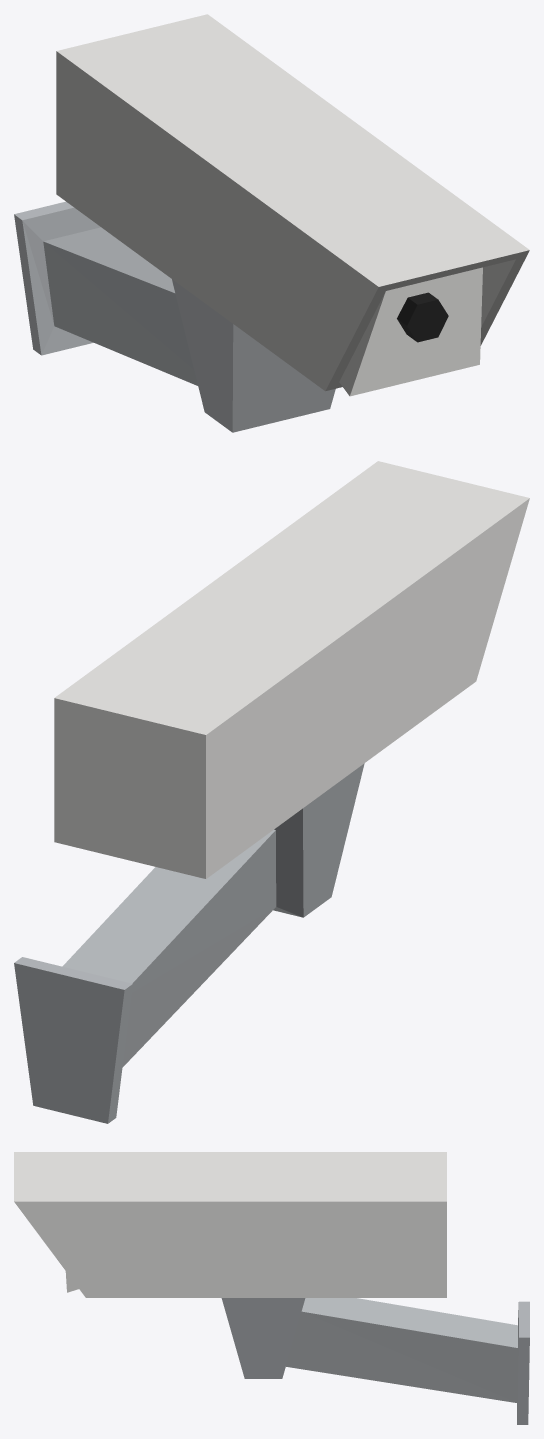
Rendered from SM_security_camera.fbx.
The picture shows the model from 3 angles, top to bottom: view 1: azimuth 30°, elevation 25°; view 2: azimuth 150°, elevation 25°; view 3: azimuth 270°, elevation 25°; orthographic projection. The views are drawn at different scales.
Visible parts, largest first — view 1: Box259; view 2: Box259; view 3: Box259.
Boxes of the visible parts, bbox=[...] form: Box259: bbox=[14, 14, 529, 432]; Box259: bbox=[14, 461, 529, 1123]; Box259: bbox=[14, 1152, 529, 1424].
Bounding box in the file's own units: 8.69 × 19.32 × 38.25.
